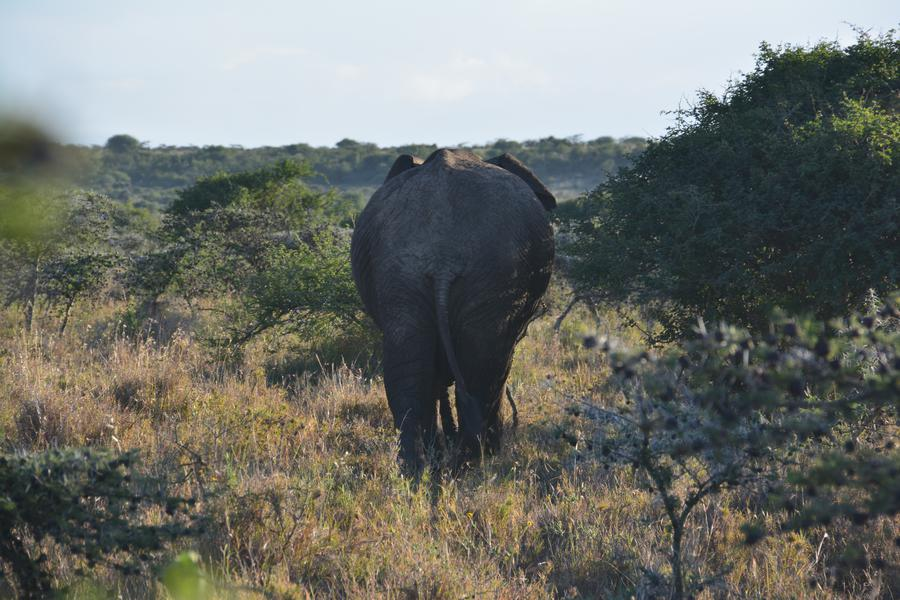elephant: (346, 144, 563, 459)
